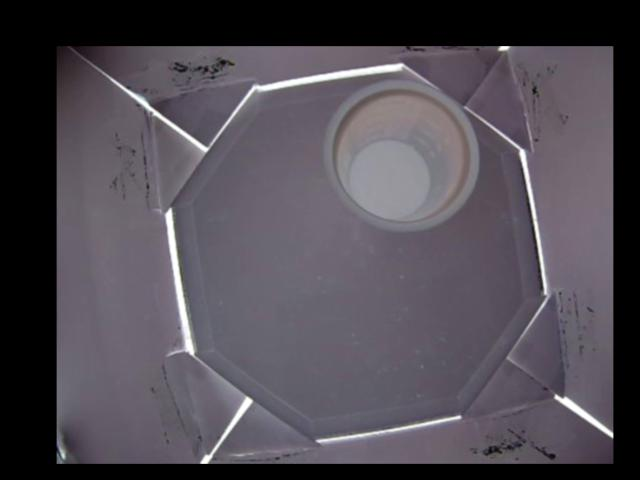Cup: (328, 80, 479, 232)
